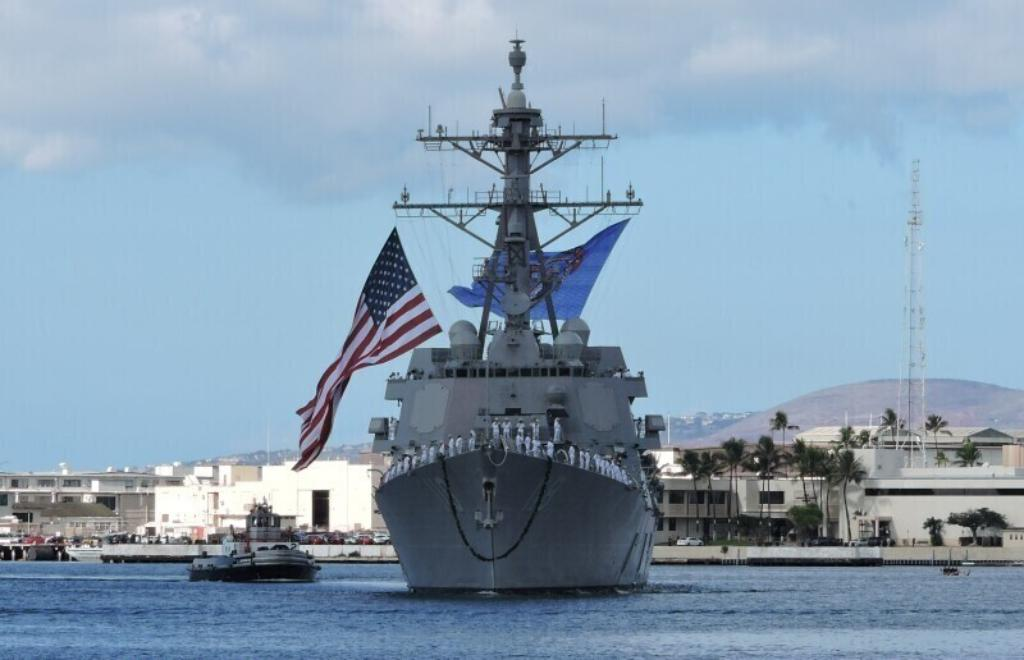Warship: (368, 35, 664, 593)
